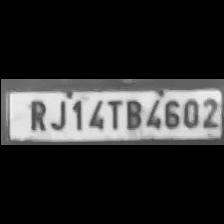0: (180, 96, 200, 128)
1: (66, 97, 83, 132)
2: (200, 95, 220, 129)
4: (84, 97, 106, 131), (143, 96, 161, 130)
6: (160, 96, 180, 130)
B: (122, 96, 142, 132)
J: (46, 96, 68, 132)
R: (22, 97, 48, 132)
T: (104, 97, 122, 131)
